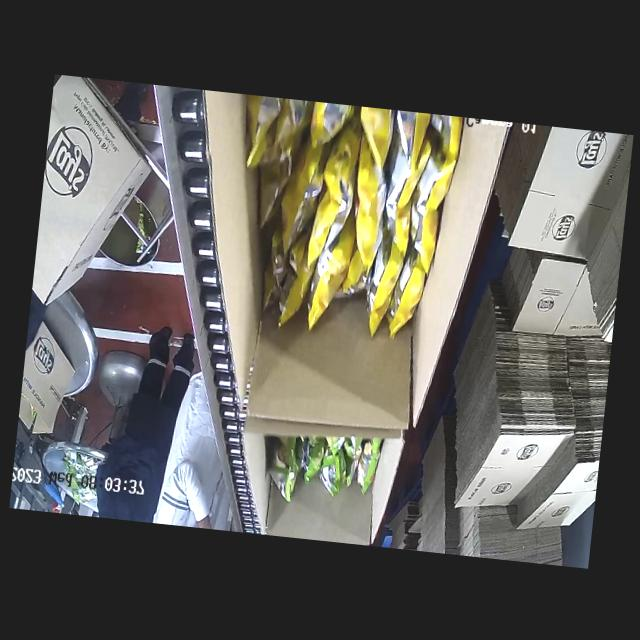salted: (221, 93, 465, 348)
yogurt: (260, 432, 390, 514)
